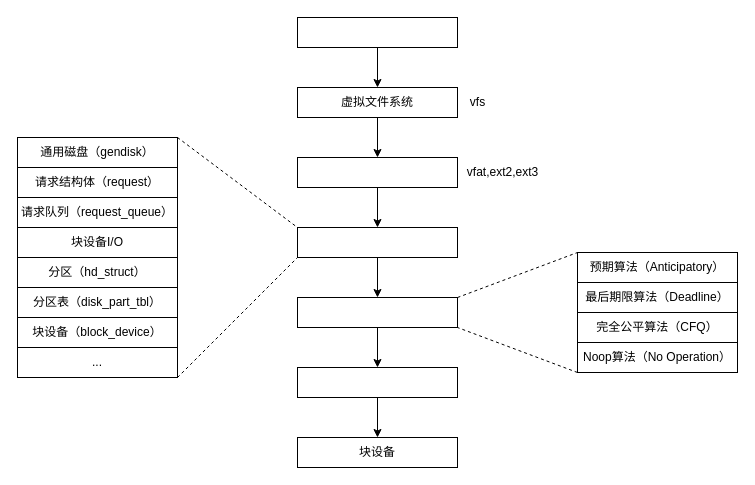
Some shapes in this 755 by 485 pixel diagram are drawn without their labels. The shapes that lost their labels are listed below. From the top down, each one's box as (x1, y1, x2, y2) in pixels, then its label:
(296, 16, 458, 48): 系统调用
(296, 156, 458, 188): 磁盘文件系统
(296, 226, 458, 258): 通用块层
(296, 296, 458, 328): I/O调度器
(296, 366, 458, 398): 块设备驱动程序
